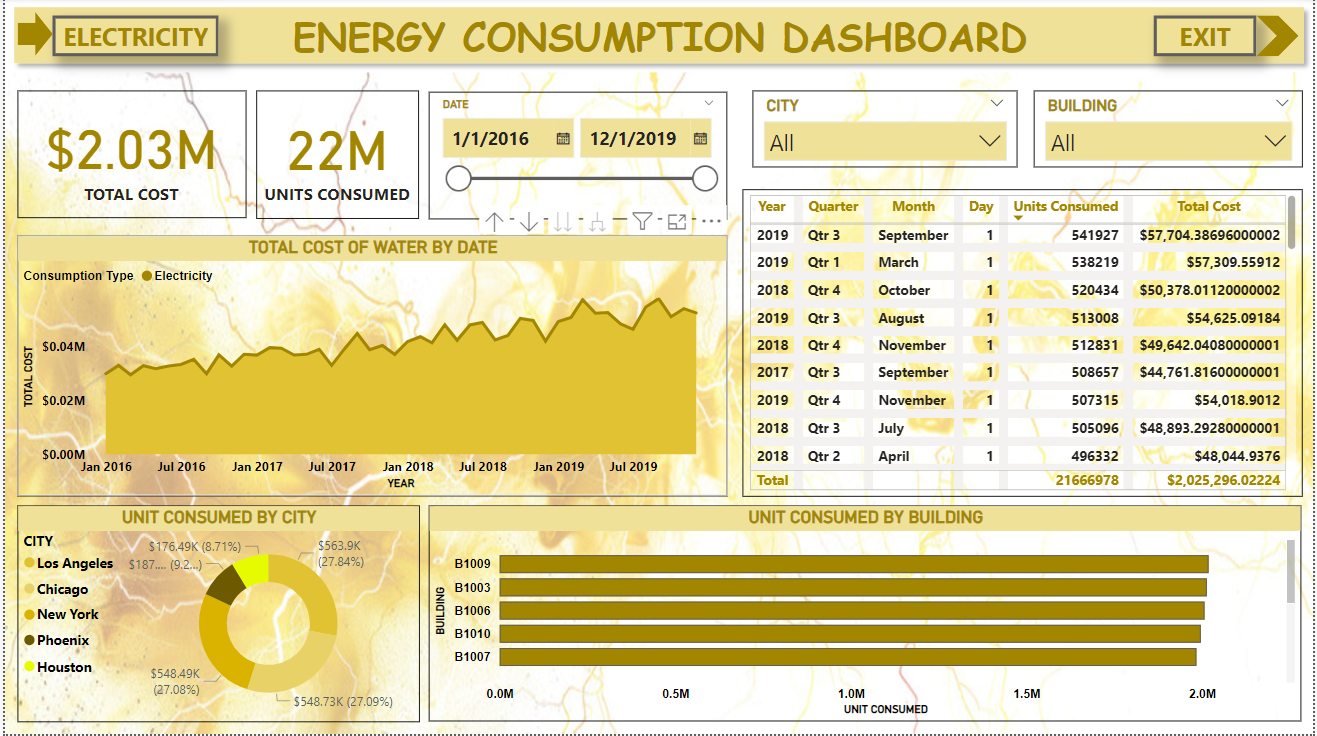

The dashboard page shown, as its layout file describes it:
{"tool":"powerbi","page":{"name":"ELECTRICITY","canvas":[1280,720],"ordinal":2},"visuals":[{"type":"shape","box":[0,0,1279.7,72.7],"z":0},{"type":"textbox","box":[270.2,6.1,741,67.3],"z":1000},{"type":"card","fields":{"Values":["Energy Consumptions.Total Cost"]},"box":[12.2,90.5,223.8,124.7],"z":2000},{"type":"card","fields":{"Values":["Energy Consumptions.Units Consumed"]},"box":[245.8,90.5,159,126],"z":3000},{"type":"slicer","fields":{"Values":["Building Master.Building"]},"box":[1005.8,90.6,263.5,75.5],"z":4000},{"type":"slicer","fields":{"Values":["Building Master.City"]},"box":[731.4,90.6,259.3,75.5],"z":5000},{"type":"slicer","fields":{"Values":["Energy Consumptions.Date"]},"box":[414.4,91.9,292.3,124.9],"z":6000},{"type":"areaChart","title":"TOTAL COST OF WATER BY DATE","fields":{"Category":["Energy Consumptions.Date.Variation.Date Hierarchy.Year","Energy Consumptions.Date.Variation.Date Hierarchy.Quarter","Energy Consumptions.Date.Variation.Date Hierarchy.Month","Energy Consumptions.Date.Variation.Date Hierarchy.Day"],"Series":["Energy Consumptions.Consumption Type"],"Y":["Energy Consumptions.Total Cost"]},"box":[12.3,231.9,694.3,255.2],"z":7000},{"type":"tableEx","fields":{"Values":["Energy Consumptions.Date.Variation.Date Hierarchy.Year","Energy Consumptions.Date.Variation.Date Hierarchy.Quarter","Energy Consumptions.Date.Variation.Date Hierarchy.Month","Energy Consumptions.Date.Variation.Date Hierarchy.Day","Energy Consumptions.Units Consumed","Energy Consumptions.Total Cost"]},"box":[721.5,187,547.7,300.4],"z":8000},{"type":"donutChart","title":"UNIT CONSUMED BY CITY","fields":{"Y":["Energy Consumptions.Total Cost"],"Category":["Building Master.City"]},"box":[12.1,497.1,393.3,212.3],"z":9000},{"type":"clusteredBarChart","title":"UNIT CONSUMED BY BUILDING","fields":{"Category":["Energy Consumptions.Building"],"Y":["Energy Consumptions.Units Consumed"]},"box":[414.5,496.5,853.5,211.6],"z":10000},{"type":"actionButton","box":[46.8,17.3,162.8,39.8],"z":12000},{"type":"actionButton","box":[1123.8,17.3,100.4,39.8],"z":13000},{"type":"shape","box":[1224.3,17.3,41.6,39.8],"z":14000},{"type":"shape","box":[12.1,13.9,34.6,43.3],"z":15000}]}

Visuals, with their boxes in screenshot pixels (x1, y1, x2, y2), scaled from the page's 1280x720 canvas onto the 1317x736 screenshot:
shape: select_region(0, 0, 1316, 74)
textbox: select_region(278, 6, 1040, 75)
card - Energy Consumptions.Total Cost: select_region(13, 93, 243, 220)
card - Energy Consumptions.Units Consumed: select_region(253, 93, 417, 221)
slicer - Building Master.Building: select_region(1035, 93, 1306, 170)
slicer - Building Master.City: select_region(753, 93, 1019, 170)
slicer - Energy Consumptions.Date: select_region(426, 94, 727, 222)
"TOTAL COST OF WATER BY DATE" areaChart: select_region(13, 237, 727, 498)
tableEx - Energy Consumptions.Date.Variation.Date Hierarchy.Year x Energy Consumptions.Date.Variation.Date Hierarchy.Quarter: select_region(742, 191, 1306, 498)
"UNIT CONSUMED BY CITY" donutChart: select_region(12, 508, 417, 725)
"UNIT CONSUMED BY BUILDING" clusteredBarChart: select_region(426, 508, 1305, 724)
actionButton: select_region(48, 18, 216, 58)
actionButton: select_region(1156, 18, 1260, 58)
shape: select_region(1260, 18, 1302, 58)
shape: select_region(12, 14, 48, 58)
